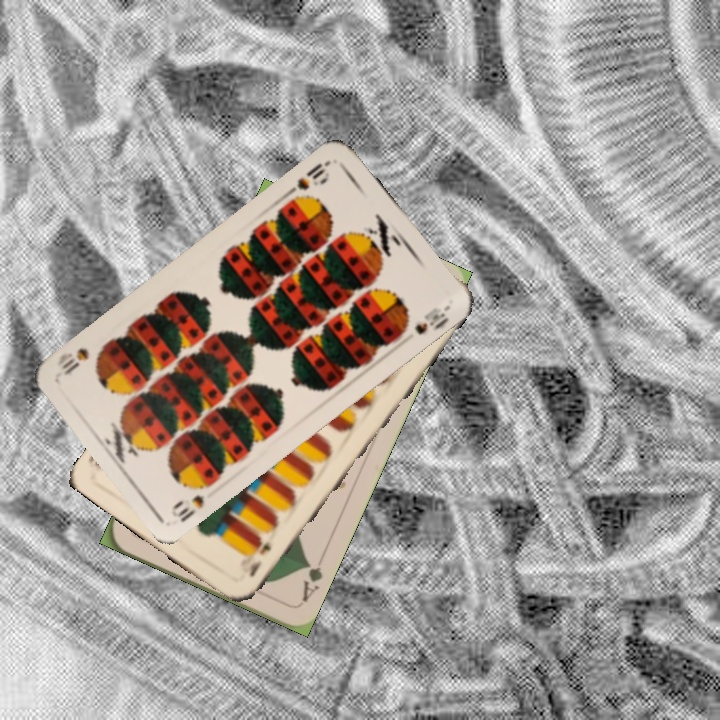E10: (245, 537, 274, 580)
GA: (297, 556, 326, 605)
S10: (167, 478, 216, 525), (284, 155, 334, 198)
